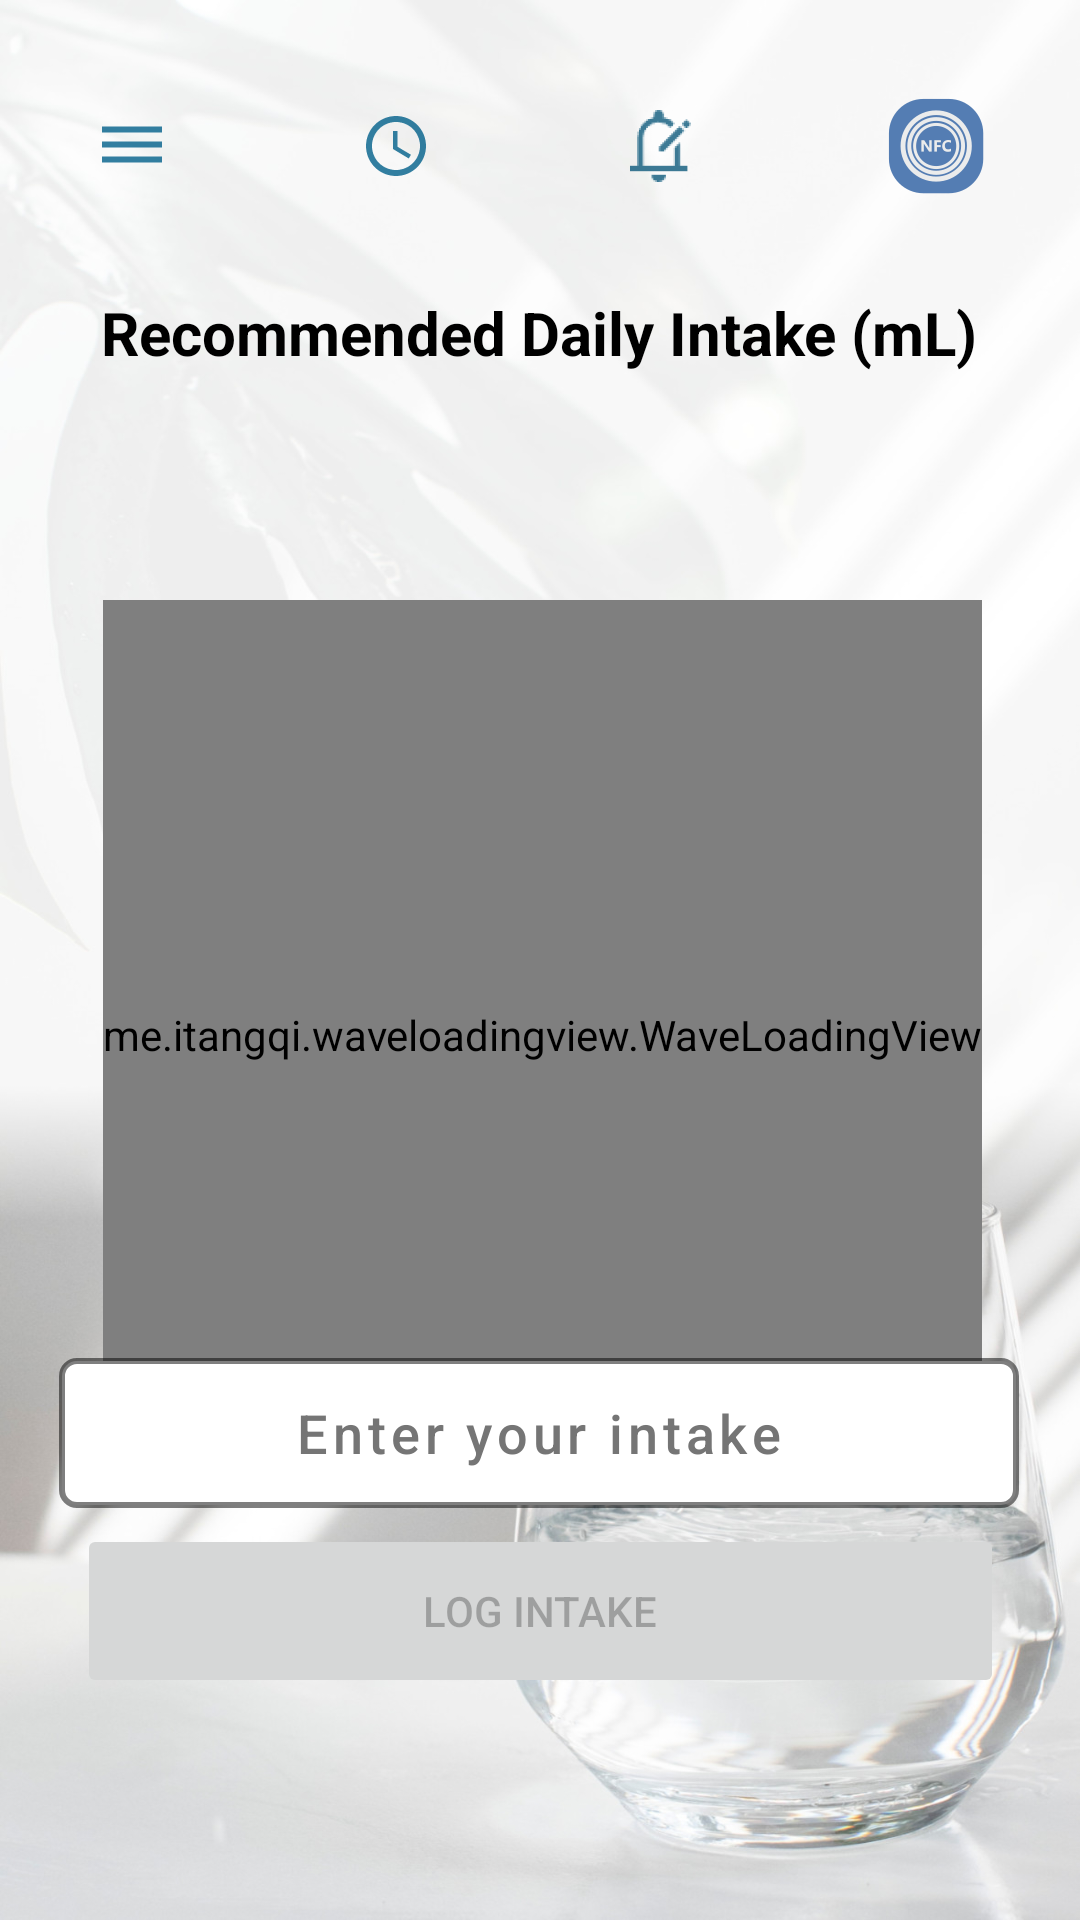

Screen size 1080*1920. Icon name, then its box in pixels as rect(x1, y1, x2, y2):
edit notification: rect(630, 110, 691, 182)
Timer: rect(366, 116, 426, 176)
